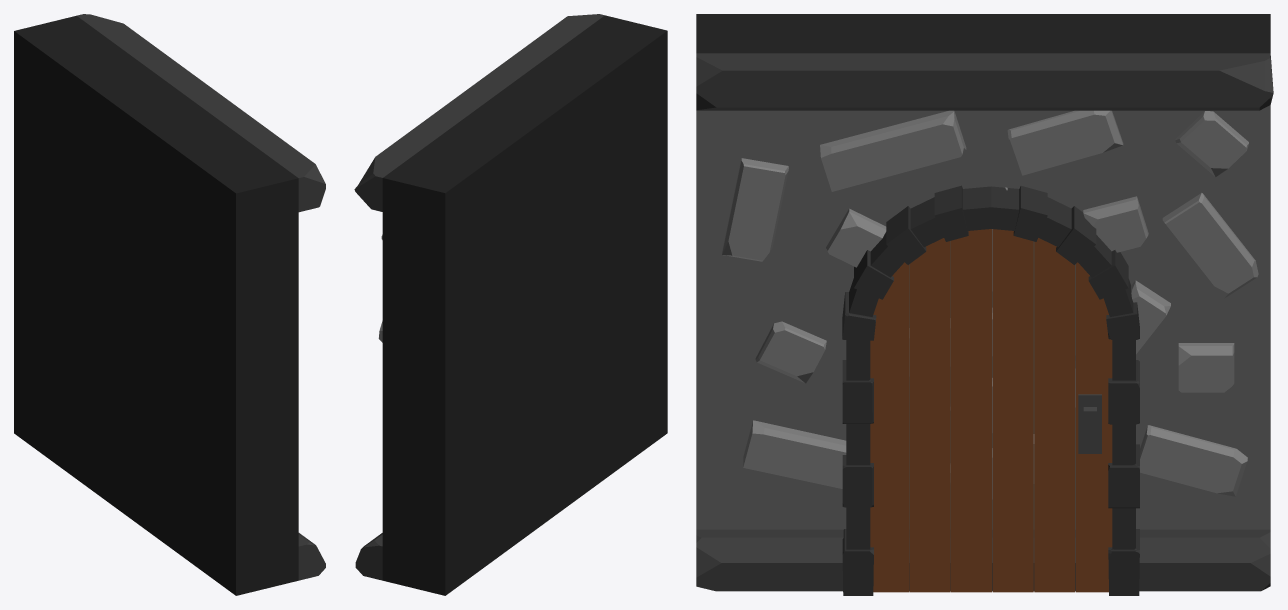
File: dungeon_modules_door_full.glb
3 renders of one model, left to right at view 1: azimuth 30°, elevation 25°; view 2: azimuth 150°, elevation 25°; view 3: azimuth 270°, elevation 25°, orthographic. The views are drawn at different scales.
Visible parts, largest first — view 1: Cube.001; view 2: Cube.001; view 3: Cube.001.
Part boxes in pixels (<box>): Cube.001: <box>14,14,325,595</box>; Cube.001: <box>354,14,667,595</box>; Cube.001: <box>696,14,1273,595</box>.
Bounding box in the file's own units: 0.4232 × 1.63 × 1.64.
Materials: 1 (1 with a texture image).
